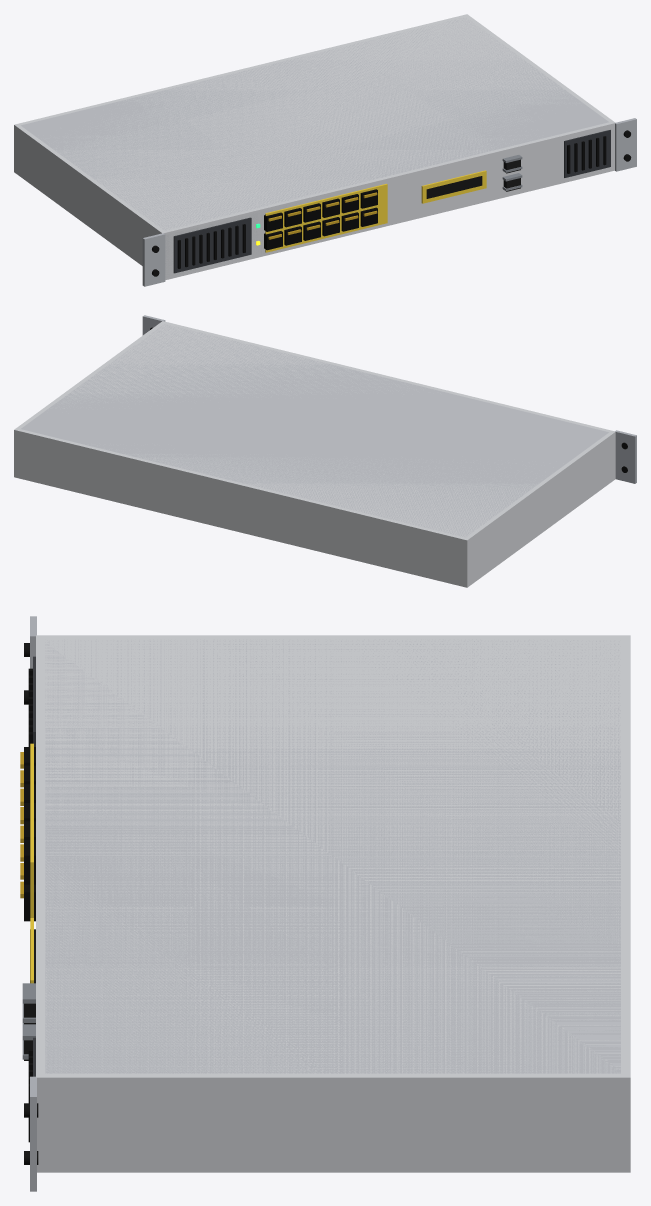
Rendered from 12-router-firewall-rackmount-silver-1u.glb.
The picture shows the model from 3 angles, top to bottom: view 1: azimuth 30°, elevation 25°; view 2: azimuth 150°, elevation 25°; view 3: azimuth 270°, elevation 25°; orthographic projection. The views are drawn at different scales.
Bounding box in the file's own units: 0.478 × 0.044 × 0.2565.
